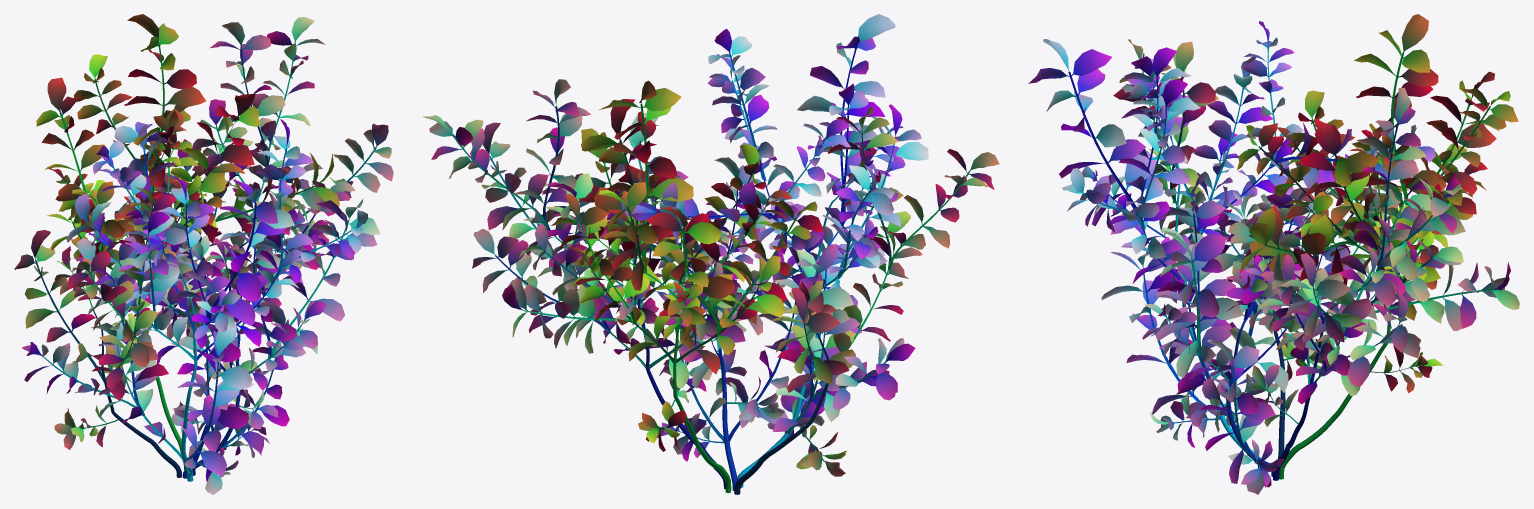
File: European_Spindle_wk1ncbxja_Mid_wk1ncbxja_VarJ_LOD0.fbx
The picture shows the model from 3 angles, left to right: view 1: azimuth 30°, elevation 25°; view 2: azimuth 150°, elevation 25°; view 3: azimuth 270°, elevation 25°; orthographic projection. The views are drawn at different scales.
Parts seen in each view (by area): view 1: _y3rx_VarJ_LOD1; view 2: _y3rx_VarJ_LOD1; view 3: _y3rx_VarJ_LOD1.
Boxes of the visible parts, x1,y1,x2,y2 form: _y3rx_VarJ_LOD1: (14, 14, 393, 494); _y3rx_VarJ_LOD1: (422, 14, 999, 494); _y3rx_VarJ_LOD1: (1028, 14, 1519, 494).
Bounding box in the file's own units: 157 × 158 × 150.
